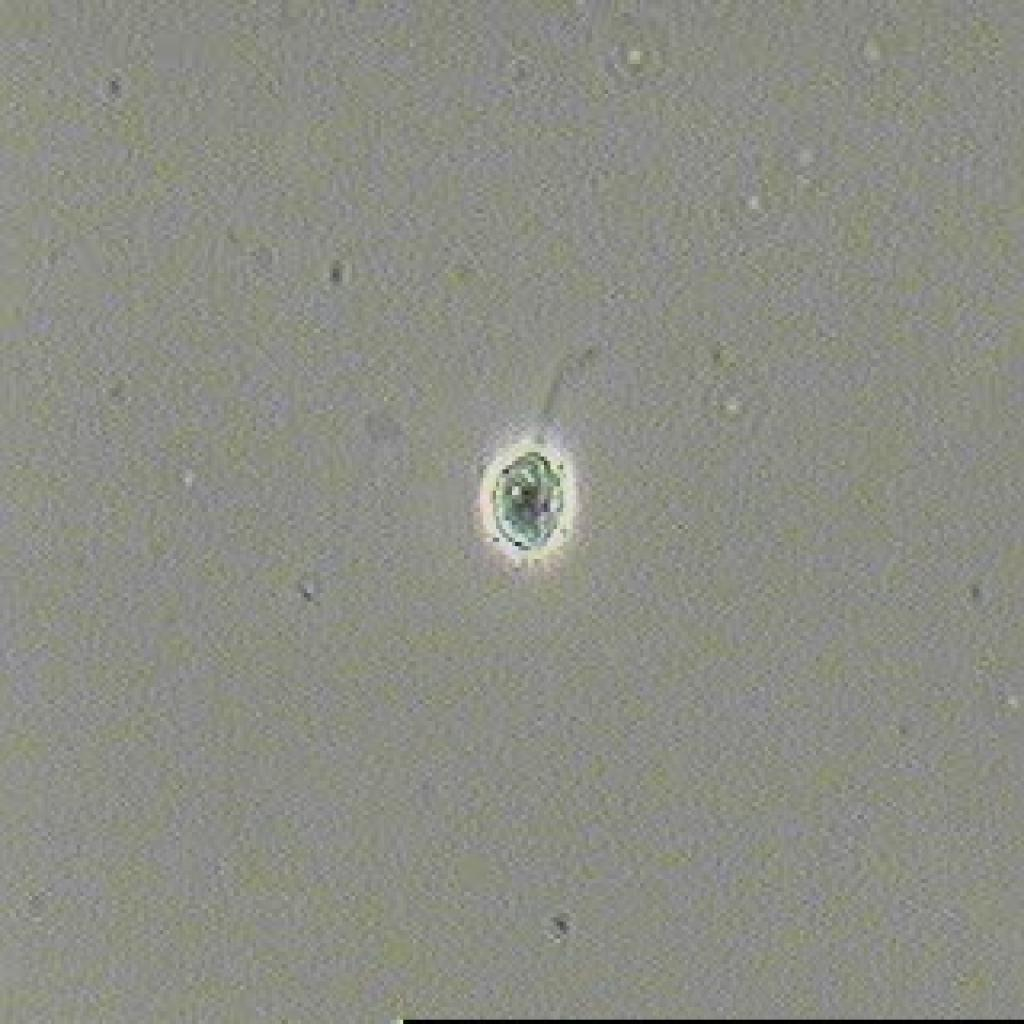Flagellates: (470, 320, 586, 597)
